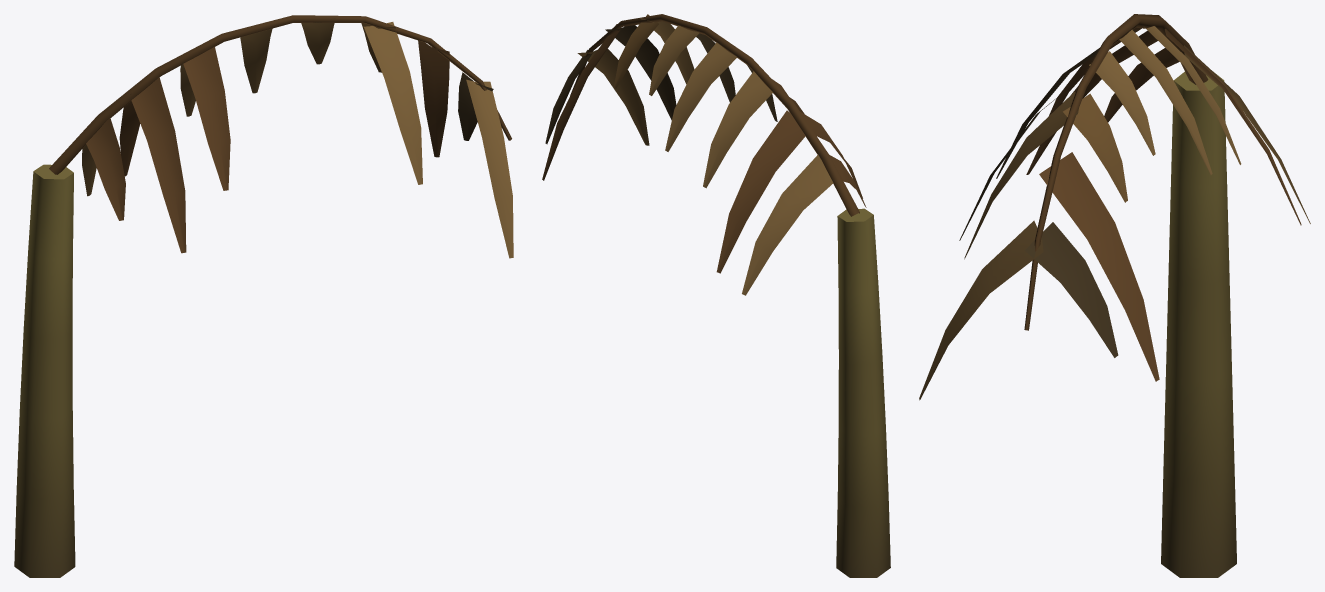
The model's file is pisang_daun_kering.glb.
3 views of the same model, side by side, from view 1: azimuth 30°, elevation 25°; view 2: azimuth 150°, elevation 25°; view 3: azimuth 270°, elevation 25° (orthographic). The views are drawn at different scales.
Parts seen in each view (by area): view 1: pisang_daun_kering; view 2: pisang_daun_kering; view 3: pisang_daun_kering.
Boxes of the visible parts, x1,y1,x2,y2 form: pisang_daun_kering: (14,15,513,577); pisang_daun_kering: (542,14,890,577); pisang_daun_kering: (919,14,1310,577).
Bounding box in the file's own units: 1.91 × 2.28 × 1.24.
